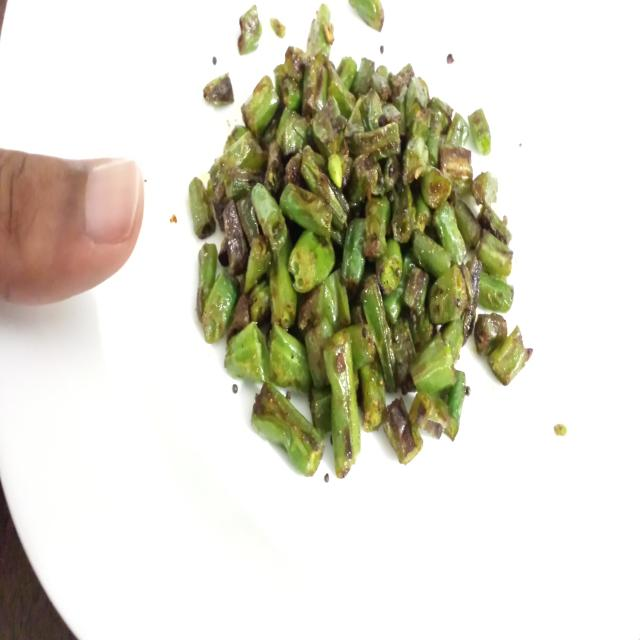bean: (190, 27, 544, 485)
